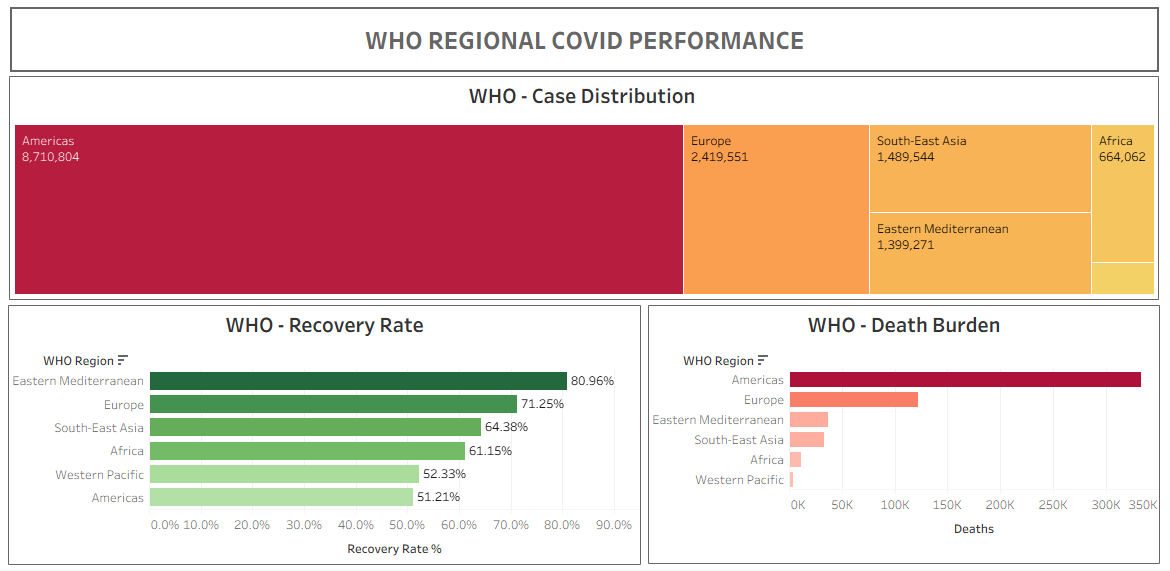

The page's visual inventory and layout, read from the dashboard file:
{"tool":"tableau","page":{"name":"WHO Summary Dashboard","canvas":[1000,1000],"units":"permille","ordinal":3},"visuals":[{"type":"text","box":[20.9,36,961.5,111.3]},{"type":"worksheet","title":"WHO - Case Distribution ","mark":"Automatic","box":[20.1,154.1,962.3,383.6]},{"type":"worksheet","title":"WHO - Recovery Rate","mark":"Automatic","rows":["WHO_Region"],"cols":["Calculation_0934347613290501"],"box":[19.2,546.2,529.7,445.2]},{"type":"worksheet","title":"WHO - Death Burden","mark":"Automatic","rows":["WHO_Region"],"cols":["Deaths"],"box":[554.8,546.2,428.4,443.5]}]}

Visuals, with their boxes on the dashboard's canvas, which has no fixed pixel size, in thousandths of its width and height (x1, y1, x2, y2). These are canvas units, not pixel positions in the 1170x571 screenshot, which may show the page scaled, cropped or inside an application window:
text: Rect(21, 36, 982, 147)
"WHO - Case Distribution " worksheet: Rect(20, 154, 982, 538)
"WHO - Recovery Rate" worksheet: Rect(19, 546, 549, 991)
"WHO - Death Burden" worksheet: Rect(555, 546, 983, 990)
